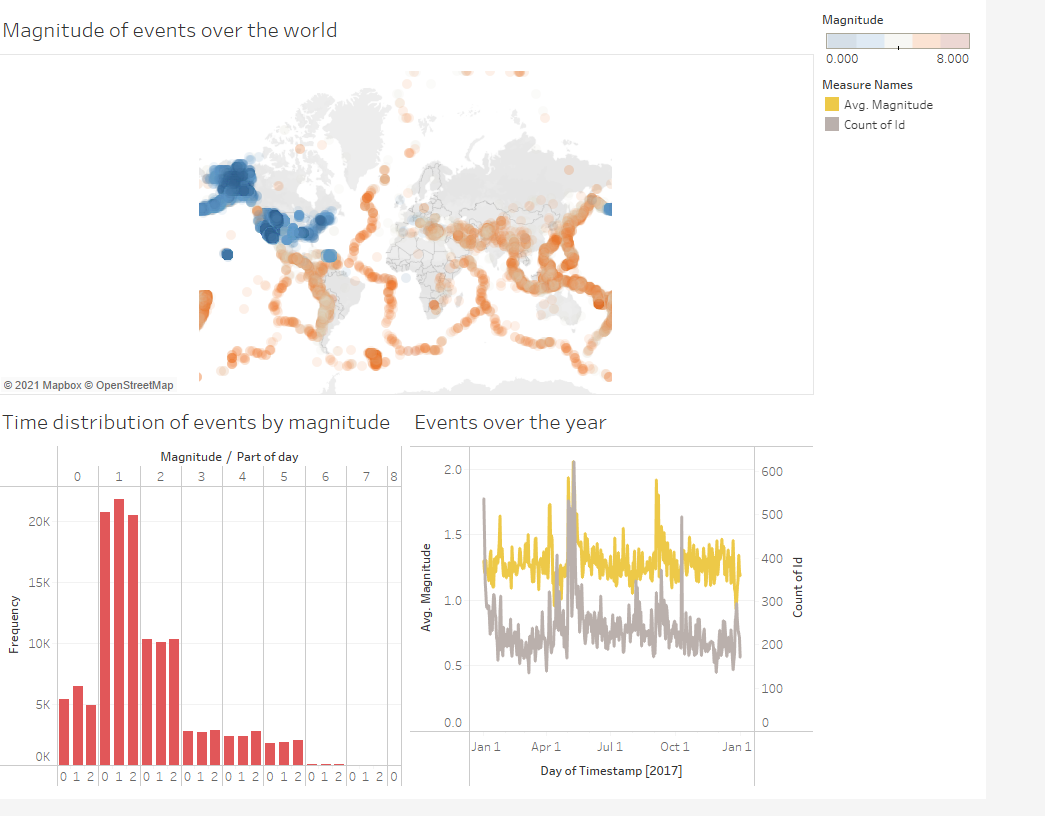

The page's visual inventory and layout, read from the dashboard file:
{"tool":"tableau","page":{"name":"Dashboard 1","canvas":[1000,800],"ordinal":0},"visuals":[{"type":"worksheet","title":"Sheet 1","mark":"Automatic","rows":["lon"],"cols":["lat"],"box":[8,8,824,392]},{"type":"legend","title":"Sheet 1","param":"[federated.0odbbhb0lj5fen142unmc0iqr11u].[sum:magnitude:qk]","box":[832,8,160,65]},{"type":"legend","title":"Sheet 3","param":"[federated.0odbbhb0lj5fen142unmc0iqr11u].[:Measure Names]","box":[832,73,160,66]},{"type":"worksheet","title":"Sheet 2","mark":"Automatic","rows":["id"],"cols":["magnitude","Calculation_1531505392649400326"],"box":[8,400,412,392]},{"type":"worksheet","title":"Sheet 3","mark":"Automatic","rows":["magnitude","id"],"cols":["timestamp"],"box":[420,400,412,392]}]}

Visuals, with their boxes in screenshot pixels (x1, y1, x2, y2), scaled from the page's 1000x800 canvas onto the 1045x816 screenshot:
"Sheet 1" worksheet: (x1=8, y1=8, x2=869, y2=408)
"Sheet 1" legend: (x1=869, y1=8, x2=1037, y2=74)
"Sheet 3" legend: (x1=869, y1=74, x2=1037, y2=142)
"Sheet 2" worksheet: (x1=8, y1=408, x2=439, y2=808)
"Sheet 3" worksheet: (x1=439, y1=408, x2=869, y2=808)
